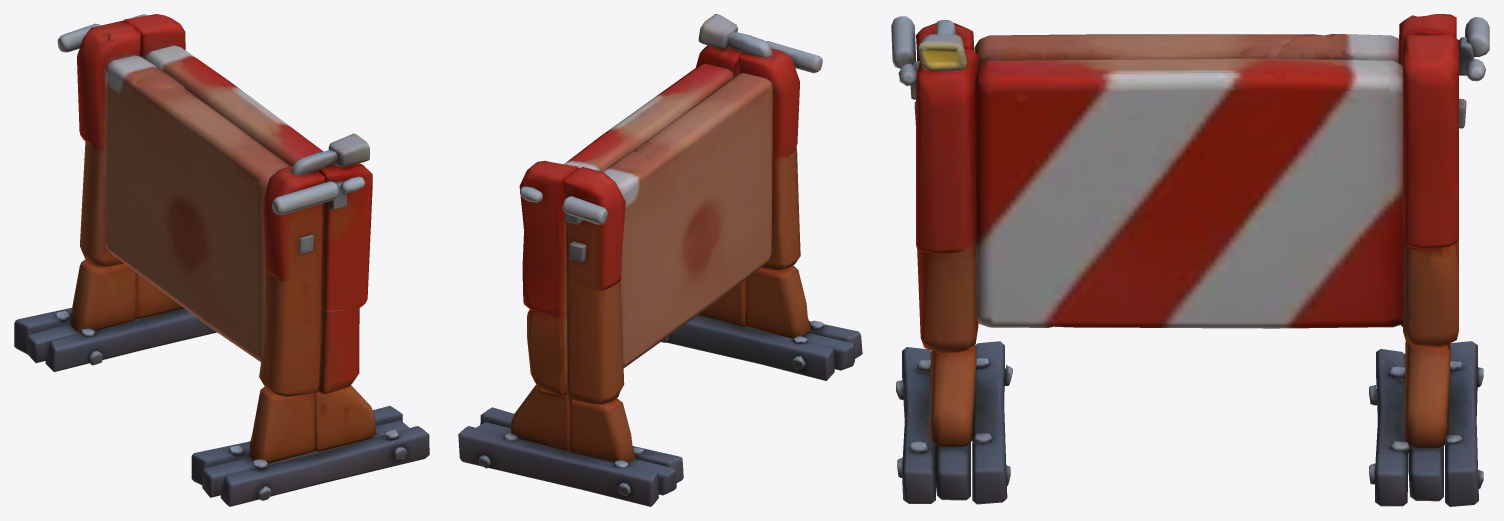
File: barrier-low.glb
The picture shows the model from 3 angles, left to right: view 1: azimuth 30°, elevation 25°; view 2: azimuth 150°, elevation 25°; view 3: azimuth 270°, elevation 25°; orthographic projection. The views are drawn at different scales.
Visible parts, largest first — view 1: tripo_node_c9a8cf90-a1ee-46c7-82da-15df3baffe87; view 2: tripo_node_c9a8cf90-a1ee-46c7-82da-15df3baffe87; view 3: tripo_node_c9a8cf90-a1ee-46c7-82da-15df3baffe87.
Boxes of the visible parts, x1,y1,x2,y2 form: tripo_node_c9a8cf90-a1ee-46c7-82da-15df3baffe87: (14,14,429,506); tripo_node_c9a8cf90-a1ee-46c7-82da-15df3baffe87: (458,14,862,506); tripo_node_c9a8cf90-a1ee-46c7-82da-15df3baffe87: (891,14,1489,506).
Size of the model in its own units: 0.541 by 0.7871 by 0.998.
Materials: 1 (1 with a texture image).
